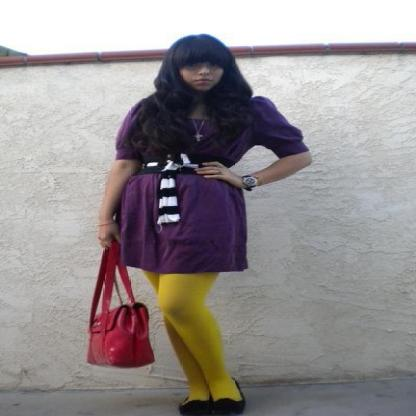bag: (87, 248, 154, 368)
dress: (109, 96, 308, 274)
shoe: (179, 392, 244, 415)
